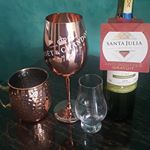cups: (1, 66, 51, 124), (73, 73, 109, 135)
